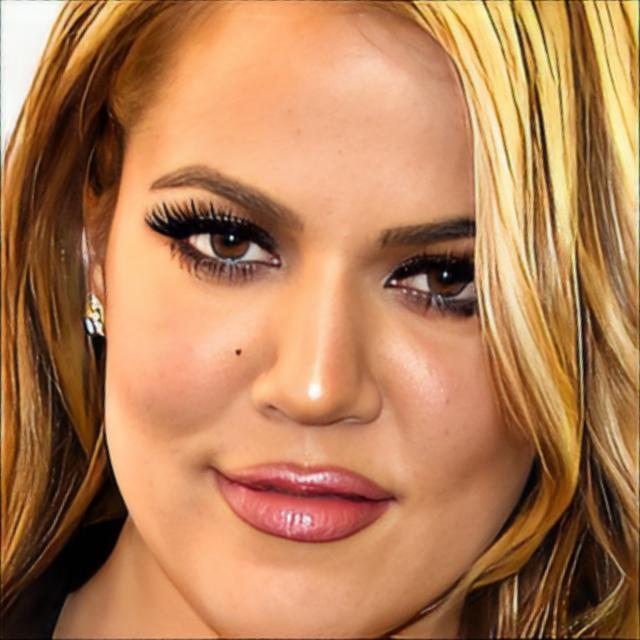content: (102, 0, 539, 640)
